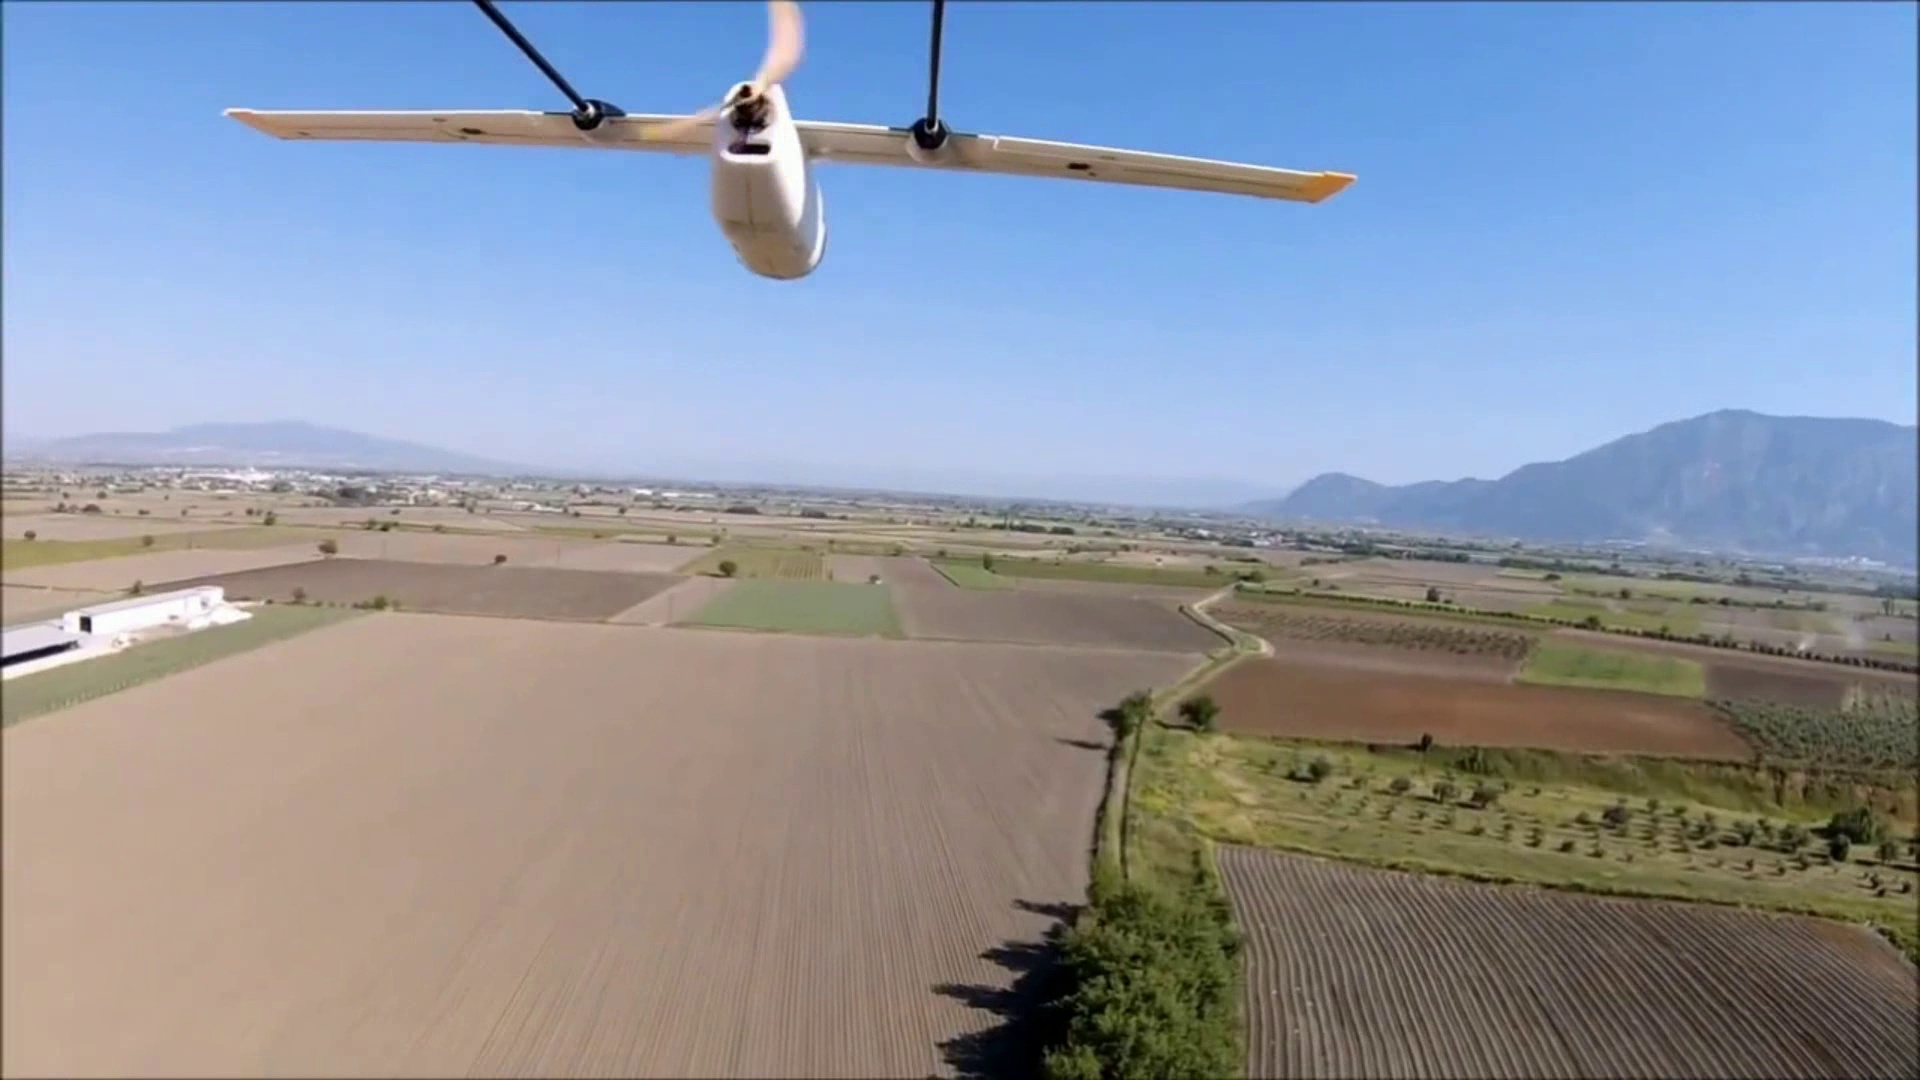airplane: (224, 4, 1352, 284)
